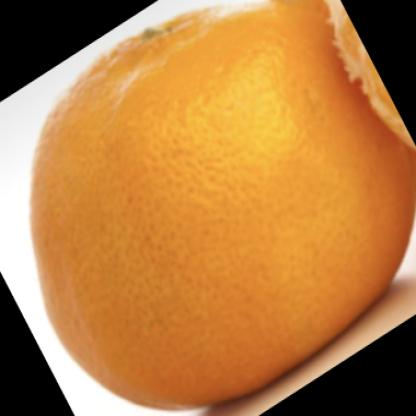fresh: (30, 1, 416, 407)
